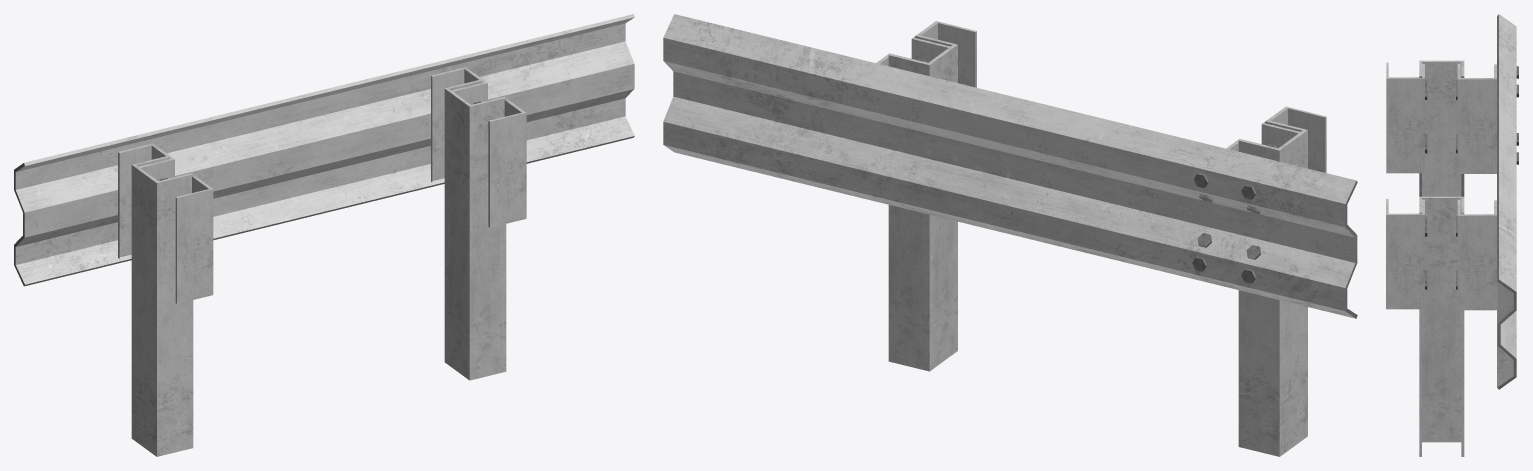
The model's file is Barier.fbx.
3 renders of one model, left to right at view 1: azimuth 30°, elevation 25°; view 2: azimuth 150°, elevation 25°; view 3: azimuth 270°, elevation 25°, orthographic. The views are drawn at different scales.
Visible parts, largest first — view 1: Cube.037; view 2: Cube.037; view 3: Cube.037.
Part boxes in pixels (left/top/right/bottom): Cube.037: left=14, top=14, right=634, bottom=456; Cube.037: left=663, top=14, right=1357, bottom=456; Cube.037: left=1386, top=14, right=1518, bottom=456.
Size of the model in its own units: 200 by 88.67 by 42.31.
